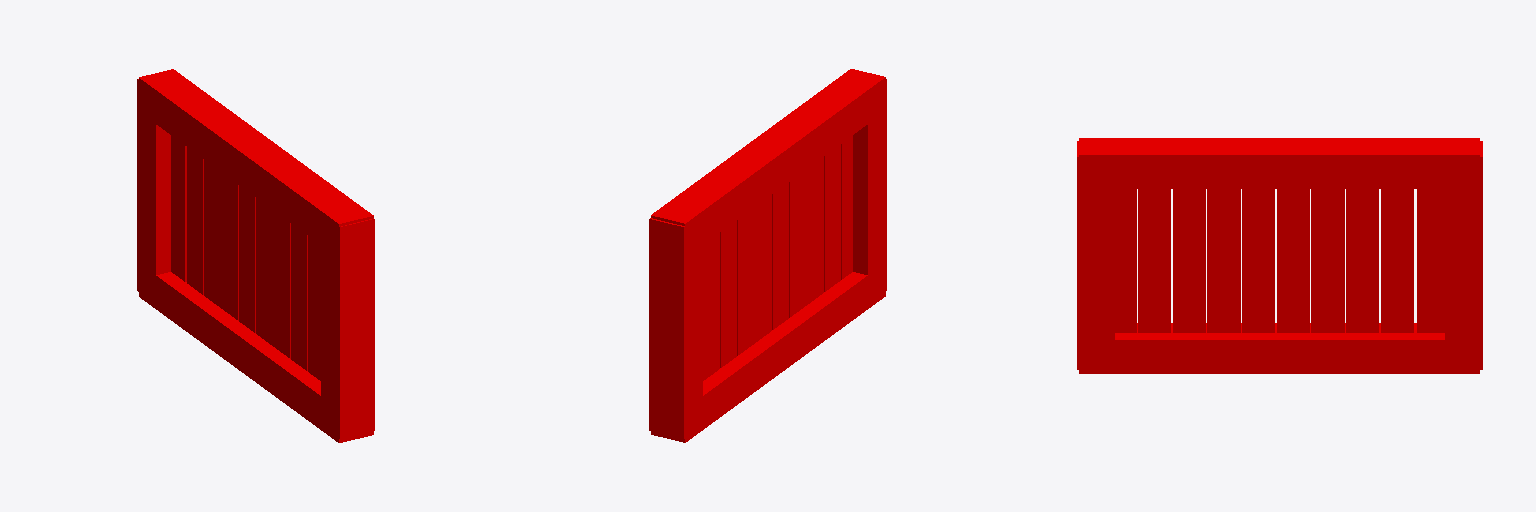
File: borderedFence.obj
3 renders of one model, left to right at view 1: azimuth 30°, elevation 25°; view 2: azimuth 150°, elevation 25°; view 3: azimuth 270°, elevation 25°, orthographic.
Parts seen in each view (by area): view 1: BorderedFence_Cube.049; view 2: BorderedFence_Cube.049; view 3: BorderedFence_Cube.049.
Part boxes in pixels (x1,y1,x2,y2): BorderedFence_Cube.049: (137,69,374,442); BorderedFence_Cube.049: (649,69,886,442); BorderedFence_Cube.049: (1077,138,1482,373).
Size of the model in its own units: 0.1 by 0.6031 by 1.01.